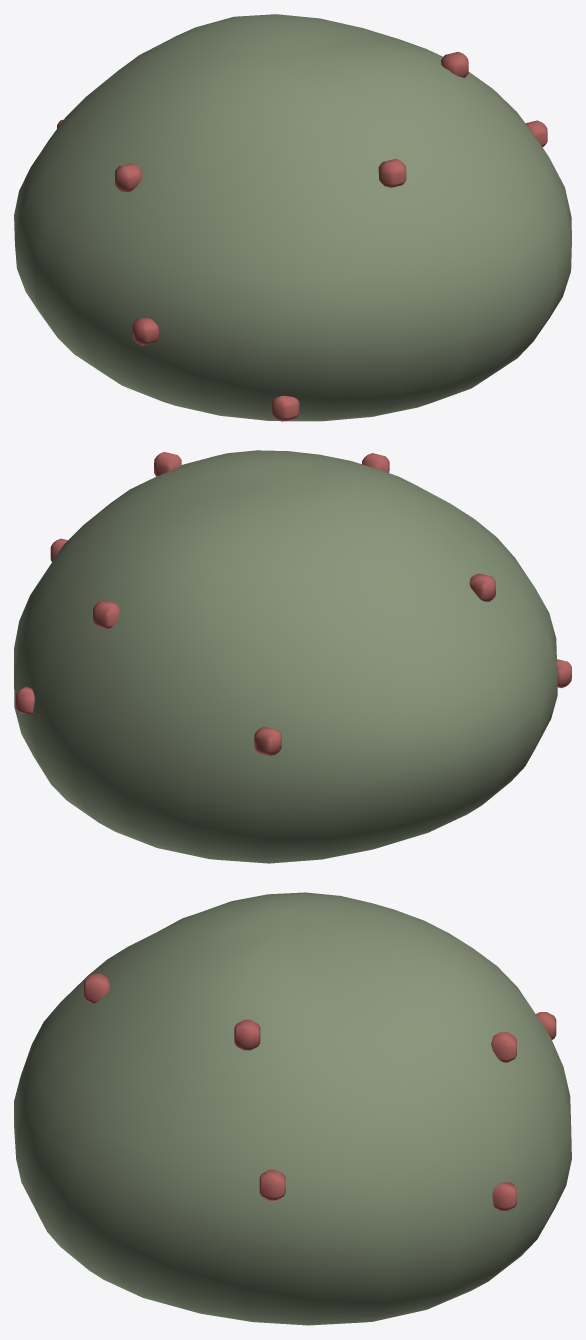
File: BushMedium.fbx
The picture shows the model from 3 angles, top to bottom: view 1: azimuth 30°, elevation 25°; view 2: azimuth 150°, elevation 25°; view 3: azimuth 270°, elevation 25°; orthographic projection. The views are drawn at different scales.
Visible parts, largest first — view 1: pCube41; view 2: pCube41; view 3: pCube41.
Boxes of the visible parts, x1=… form: pCube41: x1=14, y1=14, x2=571, y2=421; pCube41: x1=14, y1=450, x2=571, y2=863; pCube41: x1=14, y1=892, x2=571, y2=1325.
Bounding box in the file's own units: 3.07 × 1.89 × 2.96.
